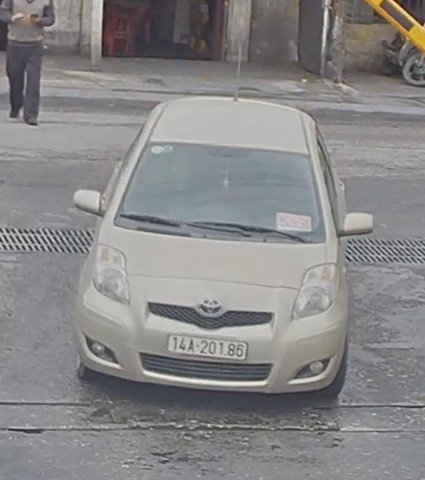vehicle plate: (161, 325, 252, 359)
